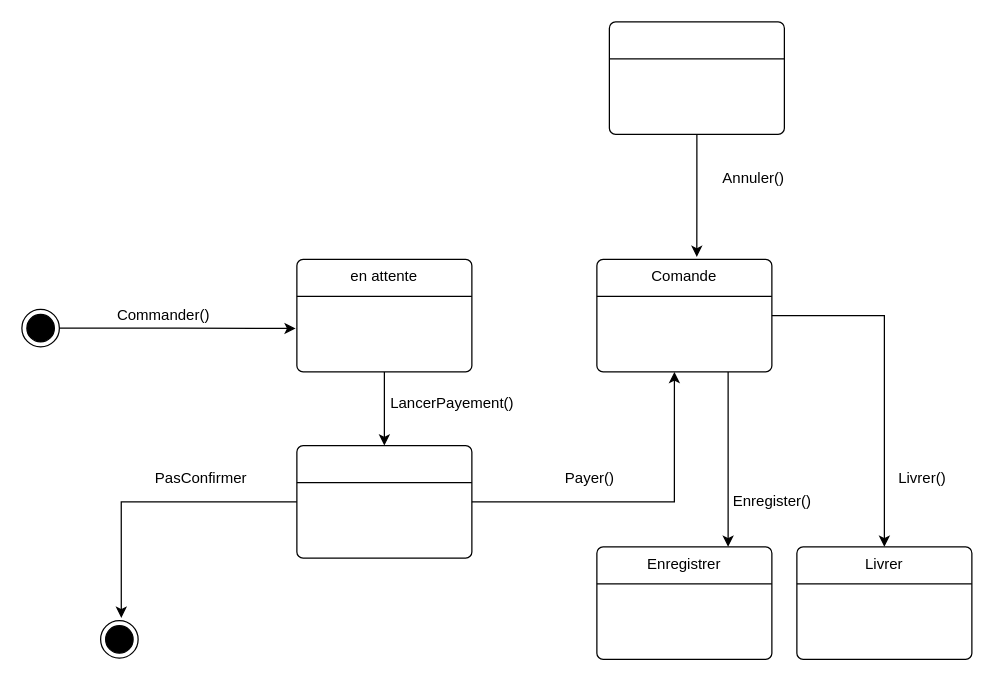
The diagram is 995 pixels wide and 681 high, and some of its shapes have lost their labels. Here are the shapes that lost their labels. From the top down, the centre of each, then its label:
At point (696, 77): "Annuler".
At point (384, 501): "API PAYEMENT".
